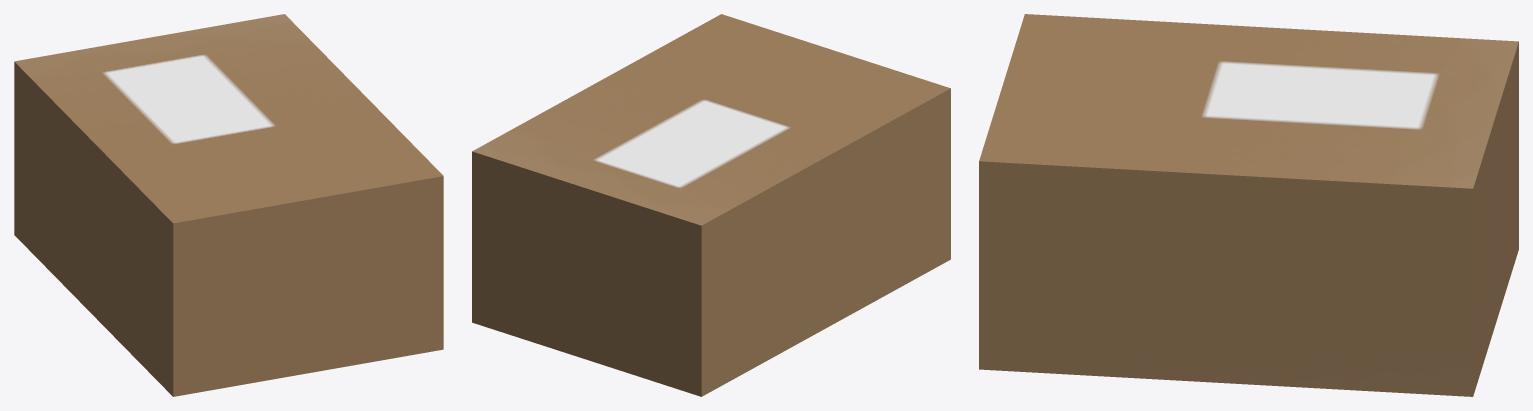
File: Eden_Box_2.fbx
3 views of the same model, side by side, from view 1: azimuth 30°, elevation 25°; view 2: azimuth 150°, elevation 25°; view 3: azimuth 270°, elevation 25° (orthographic). The views are drawn at different scales.
Visible parts, largest first — view 1: pCube34; view 2: pCube34; view 3: pCube34.
Boxes of the visible parts, x1,y1,x2,y2 form: pCube34: [14, 14, 443, 396]; pCube34: [472, 14, 950, 396]; pCube34: [979, 14, 1518, 396].
Size of the model in its own units: 0.0127 by 0.00704 by 0.0165.
Materials: 1 (1 with a texture image).
